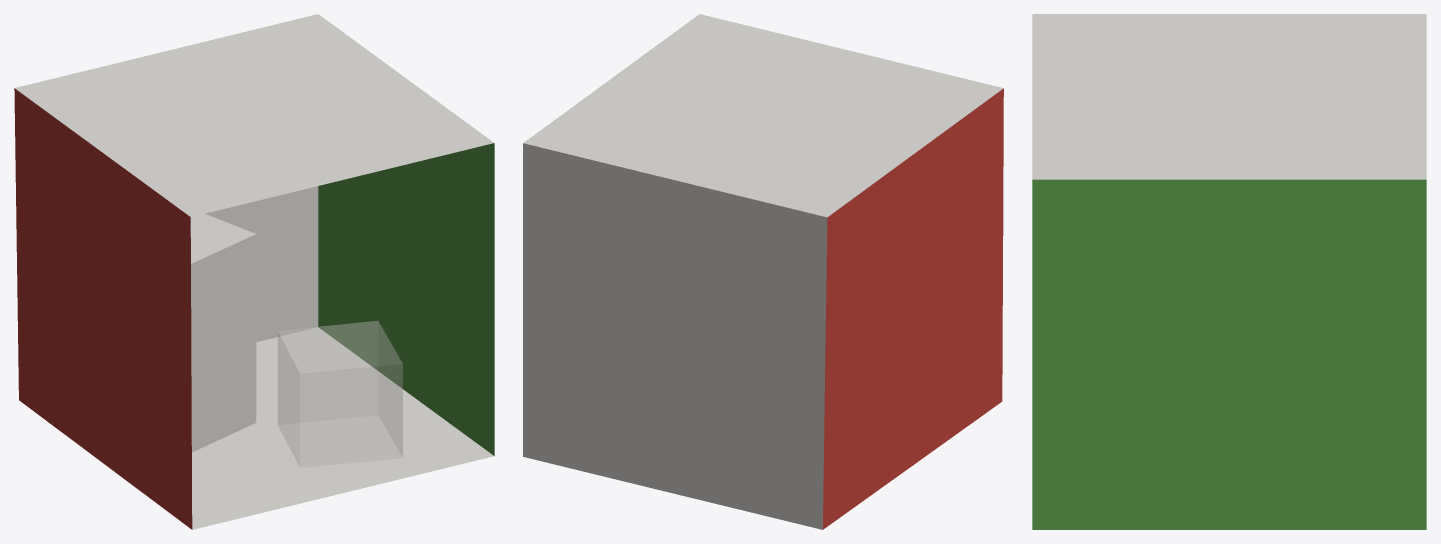
The model's file is CornellBox.gltf.
3 renders of one model, left to right at view 1: azimuth 30°, elevation 25°; view 2: azimuth 150°, elevation 25°; view 3: azimuth 270°, elevation 25°, orthographic. The views are drawn at different scales.
Parts seen in each view (by area): view 1: CornellBox-Original; view 2: CornellBox-Original; view 3: CornellBox-Original.
Part boxes in pixels (x1,y1,x2,y2): CornellBox-Original: (14,14,494,529); CornellBox-Original: (523,14,1003,529); CornellBox-Original: (1032,14,1426,529).
Bounding box in the file's own units: 2.02 × 1.99 × 2.03.
